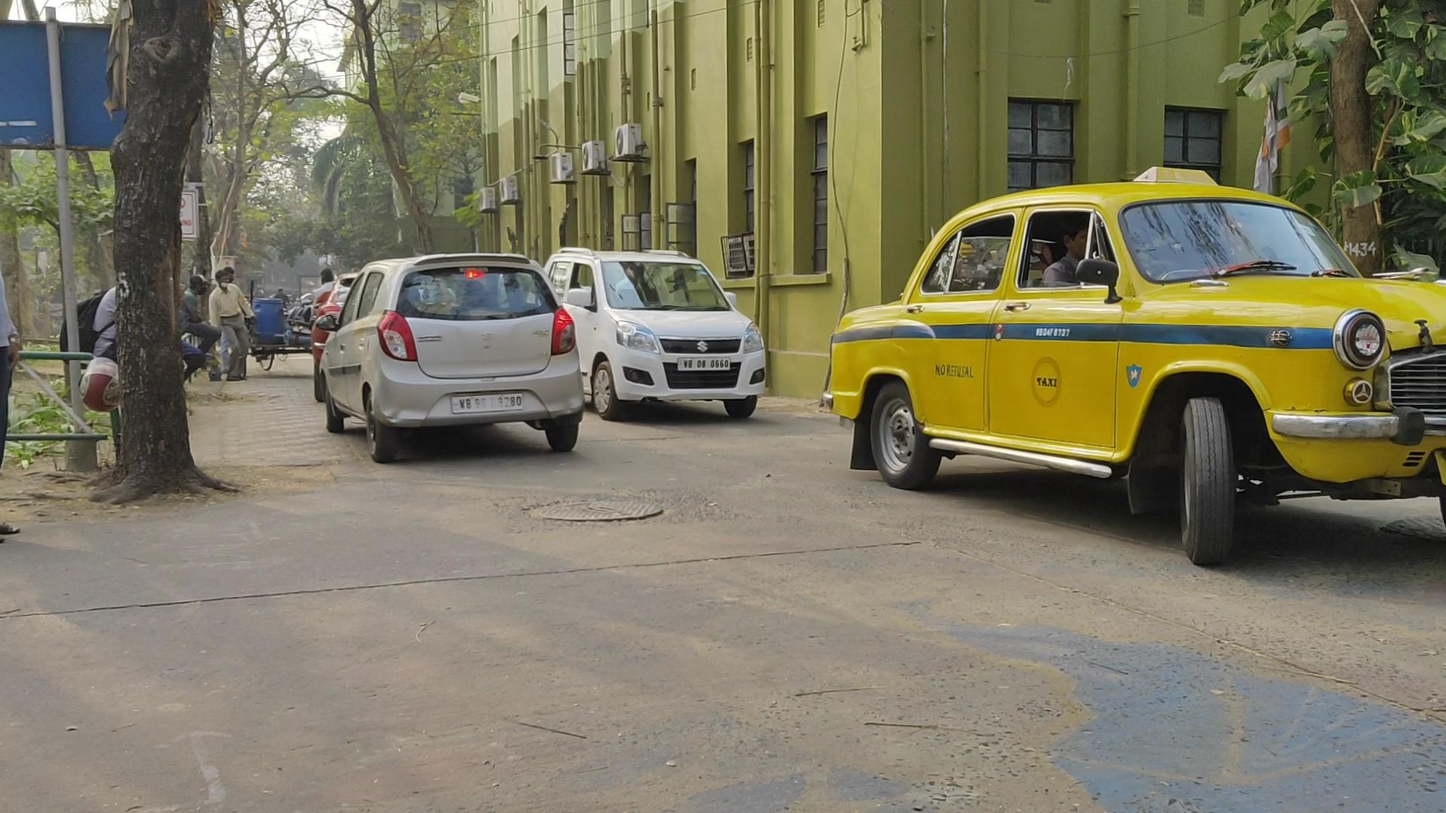car: (822, 166, 1446, 571), (318, 254, 584, 464), (535, 247, 767, 422)
